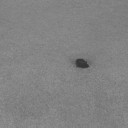iron sheet ash: (75, 58, 90, 68)
